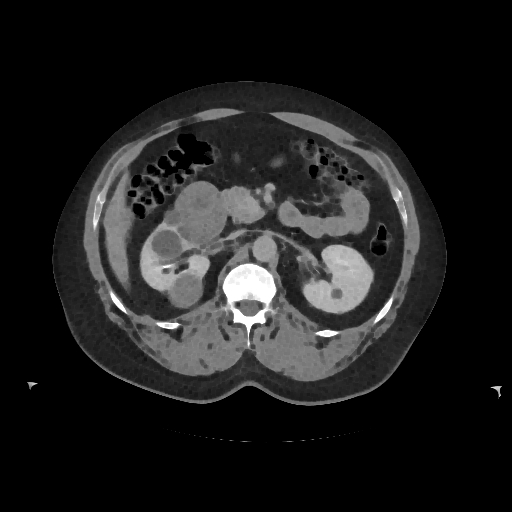Lesion: (169, 180, 232, 248)
